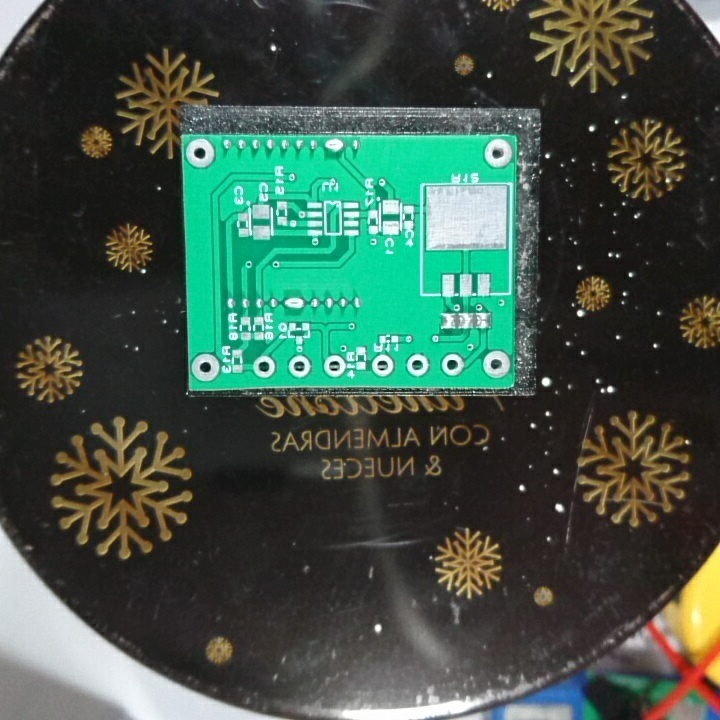F: (183, 135, 216, 171), (190, 351, 222, 384), (482, 138, 513, 170), (481, 347, 511, 380), (436, 351, 465, 379), (369, 351, 397, 379), (251, 353, 279, 381), (403, 352, 430, 379), (287, 353, 312, 380), (321, 354, 347, 379)
P: (281, 292, 308, 315), (322, 136, 346, 156)
